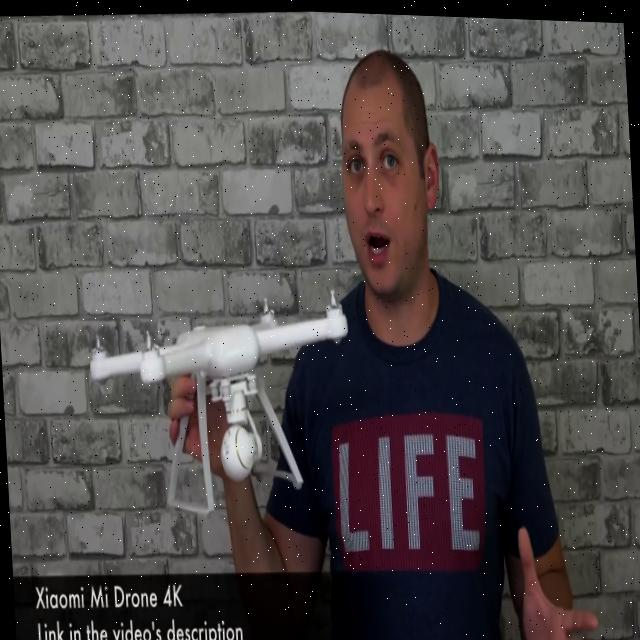drone: (81, 280, 366, 517)
